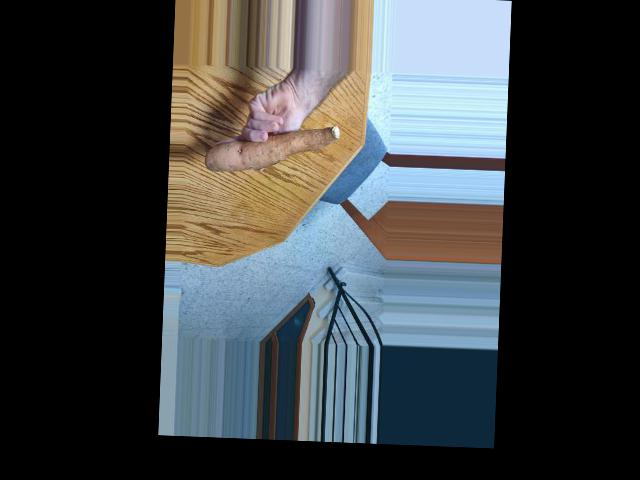sweet_potato: (208, 115, 342, 180)
